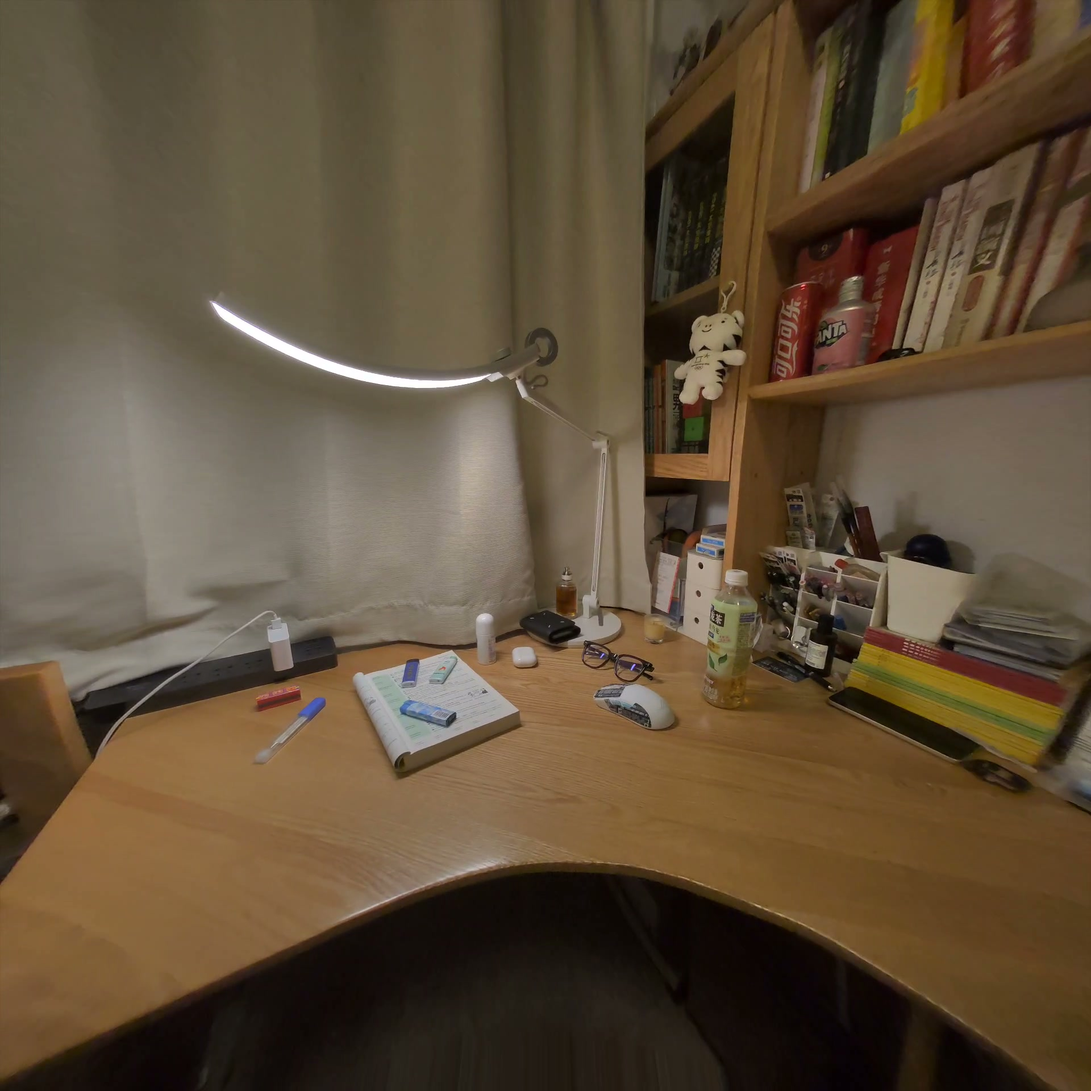lighter: (399, 701, 456, 727)
